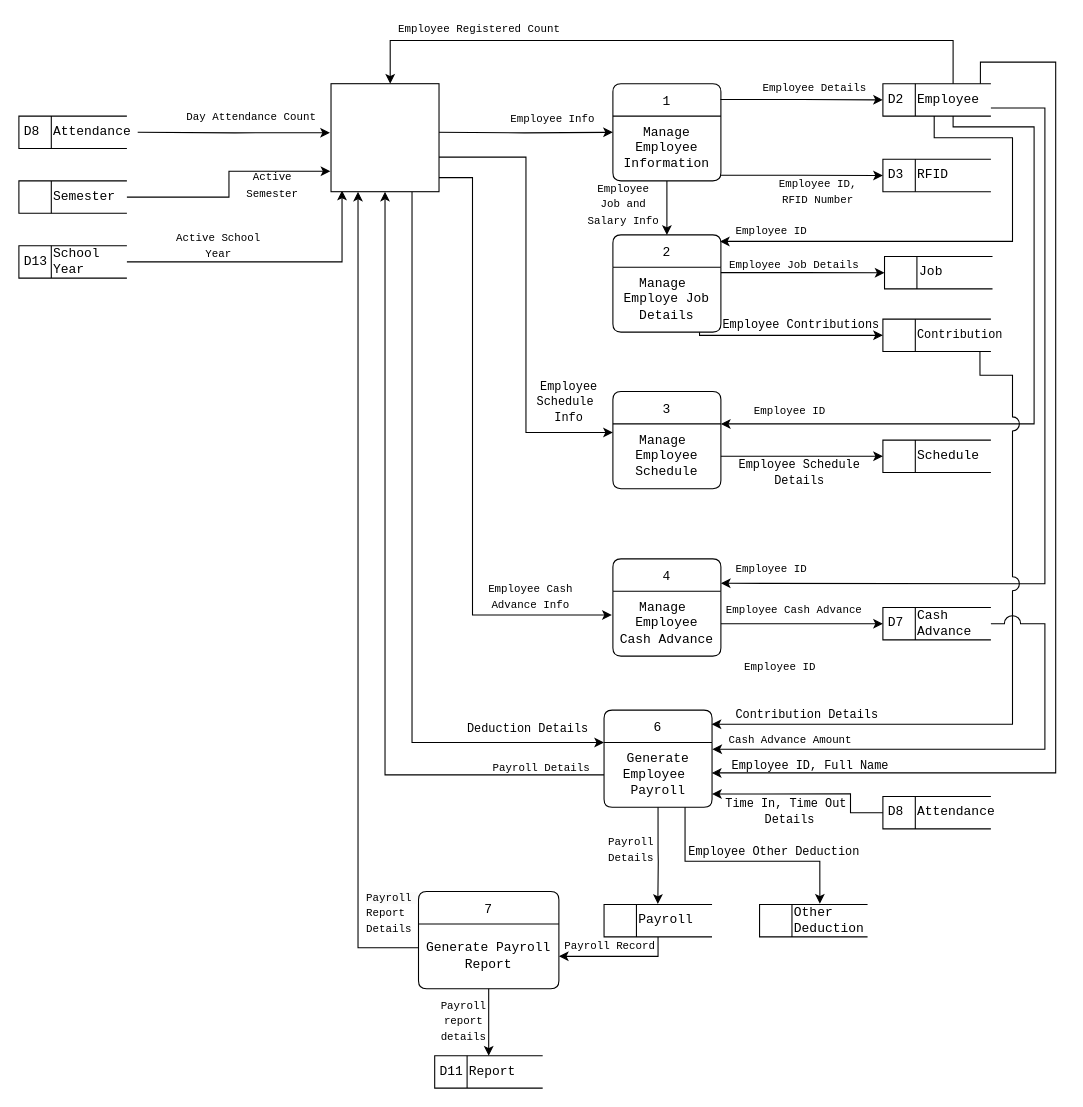
This 1083x1107 diagram has some shape labels left out. The box of each missing label's shape, as (x1, y1, x2, y2) in pixels:
Admin: (330, 83, 439, 192)
D10: (603, 903, 712, 937)
D12: (18, 180, 127, 213)
D4: (883, 255, 993, 289)
D5: (882, 318, 991, 352)
D6: (882, 439, 991, 473)
D9: (758, 903, 868, 937)
